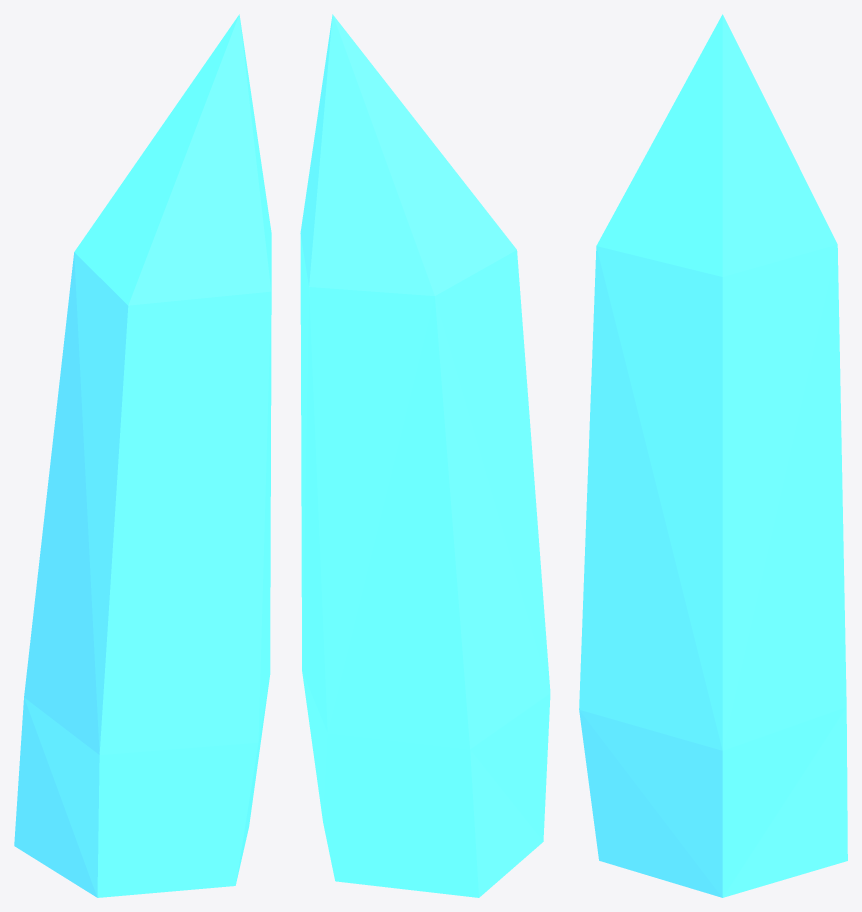
Rendered from crystal_shard.glb.
3 renders of one model, left to right at view 1: azimuth 30°, elevation 25°; view 2: azimuth 150°, elevation 25°; view 3: azimuth 270°, elevation 25°, orthographic. The views are drawn at different scales.
Visible parts, largest first — view 1: part.crystal_shard; view 2: part.crystal_shard; view 3: part.crystal_shard.
Boxes of the visible parts, x1,y1,x2,y2 form: part.crystal_shard: [14, 14, 271, 897]; part.crystal_shard: [300, 14, 550, 897]; part.crystal_shard: [579, 14, 847, 897].
Bounding box in the file's own units: 0.0617 × 0.22 × 0.061.
